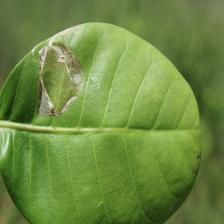leaf miner: (0, 21, 201, 224), (35, 40, 85, 118)
